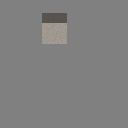supply_truck: (42, 13, 67, 44)
